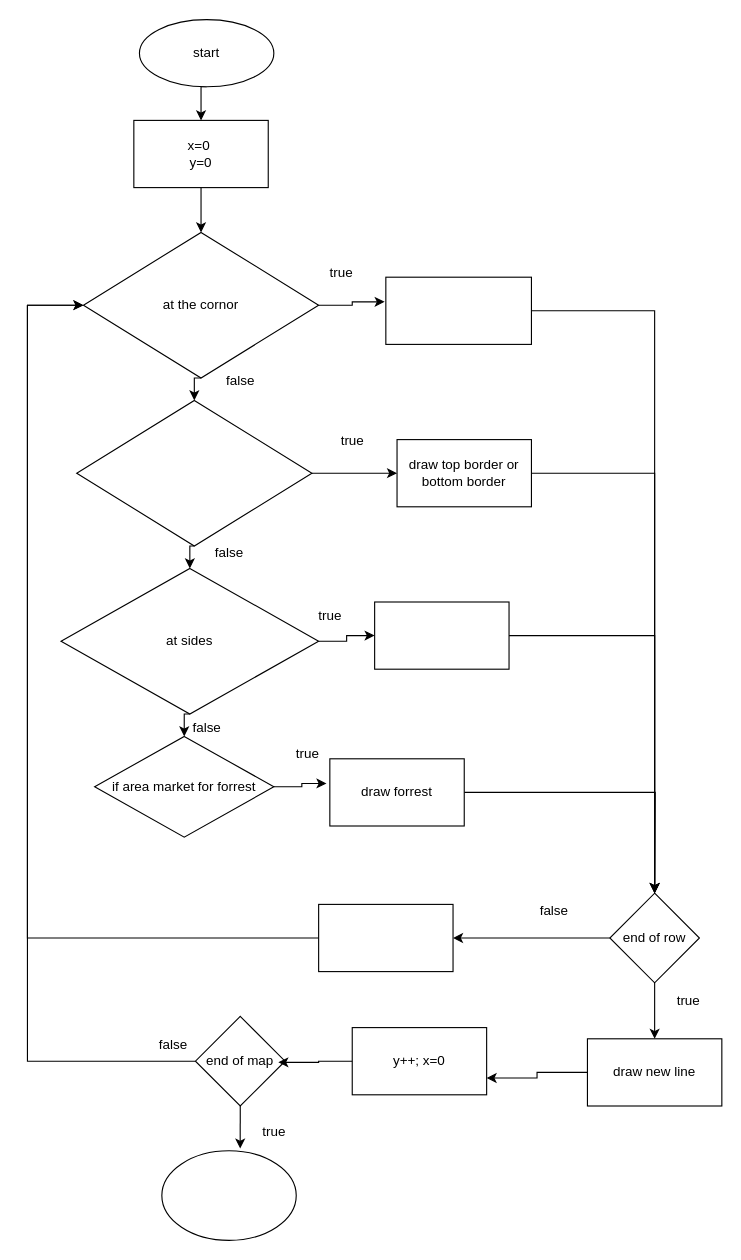
Some shapes in this 741 by 1260 pixel diagram are drawn without their labels. The centre of each missing label's shape, as x and y in pixels:
"at top or bottom" belongs at (x=194, y=472).
"draw conor" belongs at (x=458, y=310).
"draw side border" belongs at (x=441, y=635).
"end" belongs at (x=228, y=1195).
"x++" belongs at (x=385, y=937).
